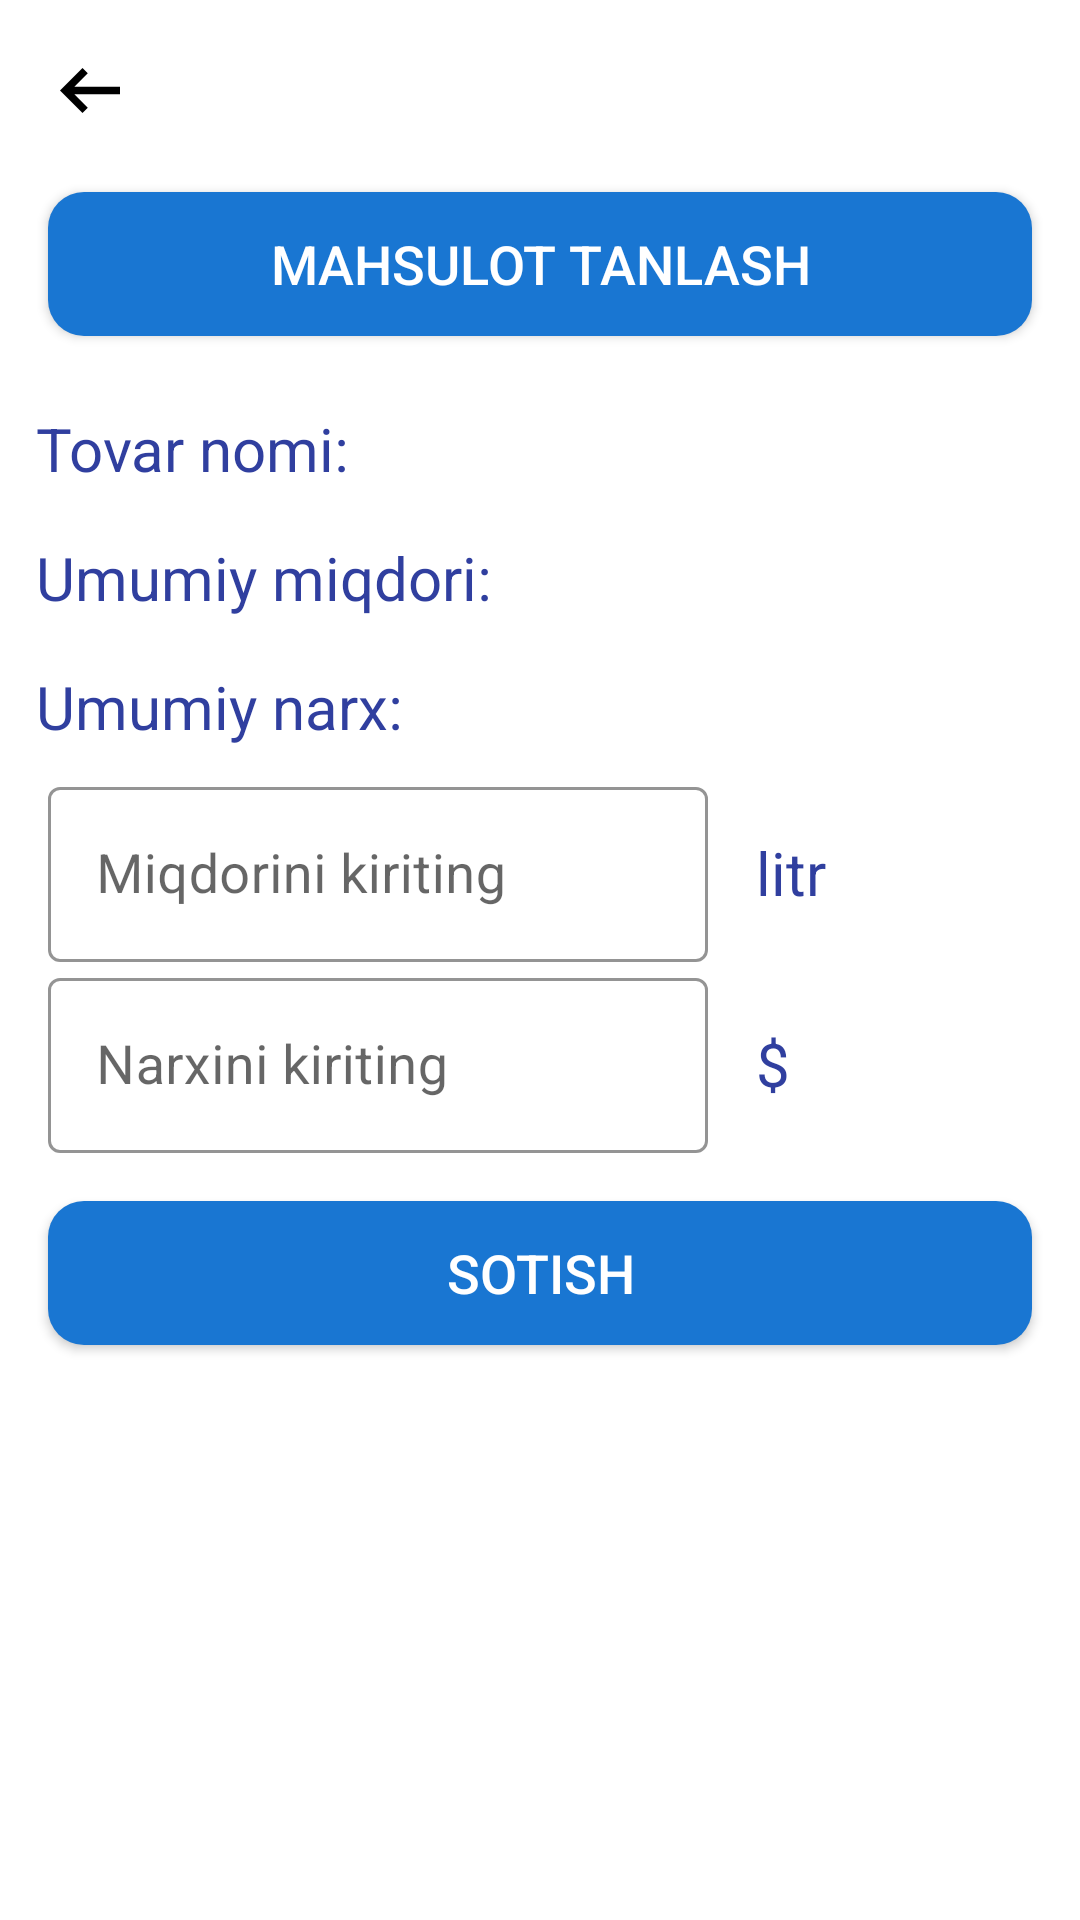

Icons on this 1080x1920 Android screen, each with the point to tap as [x,y]:
back: [90,90]
